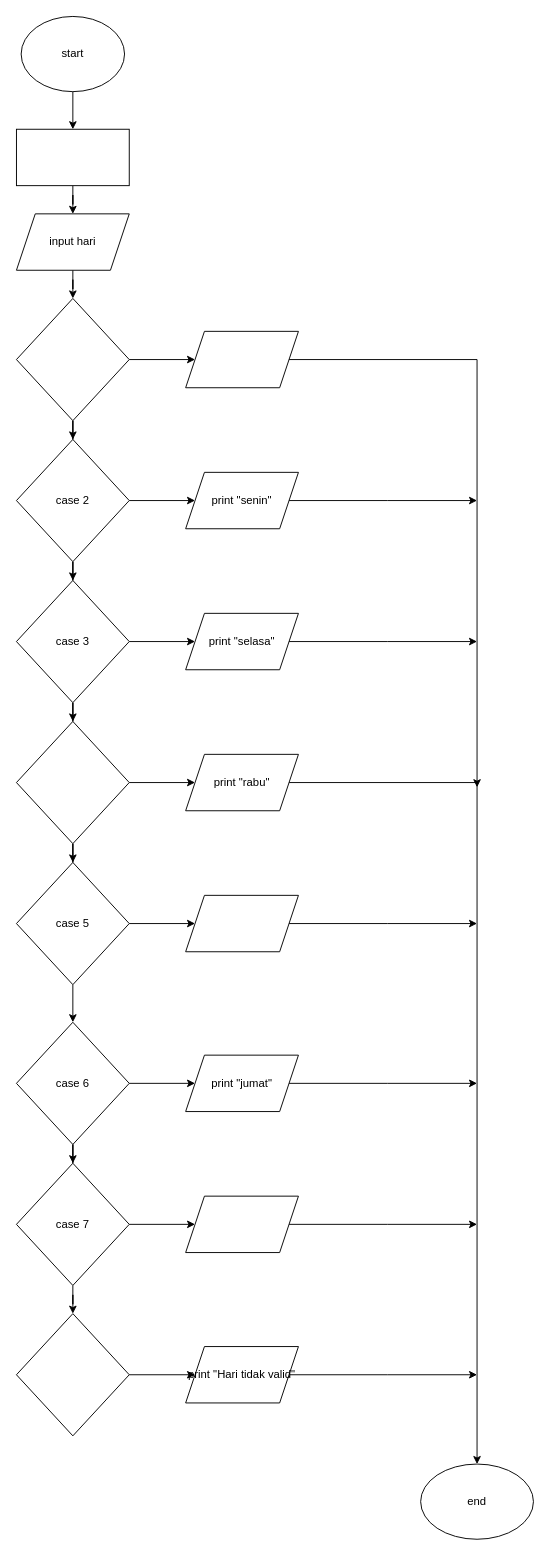
This 550x1556 diagram has some shape labels left out. The shapes that lost their labels are listed below. From the top down, each one's box as (x1, y1, x2, y2) in pixels, then its label:
(16, 128, 129, 186): int hari
(16, 298, 129, 421): case 1
(185, 330, 298, 388): print "minggu"
(16, 721, 129, 844): case 4
(185, 894, 298, 952): print "kamis"
(185, 1195, 298, 1253): print "sabtu"
(16, 1313, 129, 1436): Default
